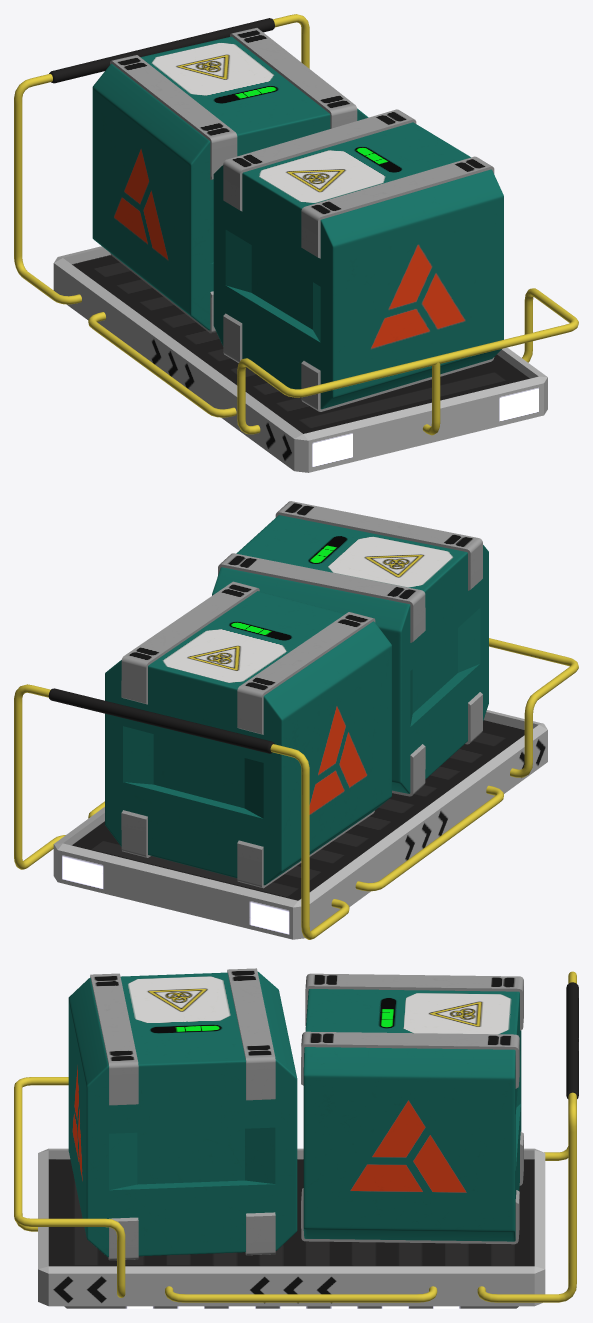
Rendered from SpaceCrates_Anim.glb.
3 renders of one model, top to bottom at view 1: azimuth 30°, elevation 25°; view 2: azimuth 150°, elevation 25°; view 3: azimuth 270°, elevation 25°, orthographic.
Visible parts, largest first — view 1: MSH_Crate.001, MSH_Cart, MSH_Crate; view 2: MSH_Crate, MSH_Cart, MSH_Crate.001; view 3: MSH_Crate.001, MSH_Crate, MSH_Cart.
Boxes of the visible parts, <box> form: MSH_Crate.001: <box>213,109,503,411</box>; MSH_Cart: <box>14,14,578,472</box>; MSH_Crate: <box>92,28,368,333</box>; MSH_Crate: <box>105,581,391,888</box>; MSH_Cart: <box>14,638,578,939</box>; MSH_Crate.001: <box>212,501,488,796</box>; MSH_Crate.001: <box>68,968,297,1260</box>; MSH_Crate: <box>301,973,523,1244</box>; MSH_Cart: <box>14,971,578,1308</box>.
Bounding box in the file's own units: 1.63 × 1.27 × 2.67.
2 materials, 2 textured.
